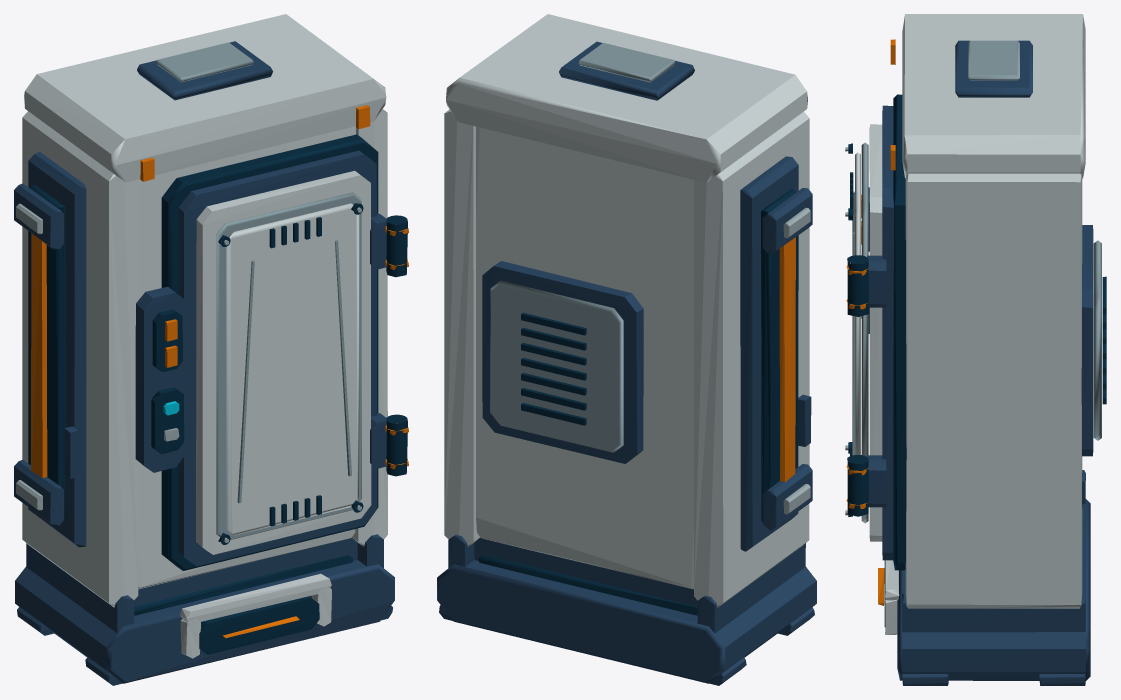
Rendered from vestiaire.glb.
3 renders of one model, left to right at view 1: azimuth 30°, elevation 25°; view 2: azimuth 150°, elevation 25°; view 3: azimuth 270°, elevation 25°, orthographic.
Visible parts, largest first — view 1: corps__gris_clair, corps__bleu_nuit, corps__bleu_nuit2, corps__cyan_fonce, corps__lum_orange, corps__gris_clair2; view 2: corps__gris_clair, corps__bleu_nuit, corps__cyan_fonce, corps__bleu_nuit2, corps__lum_orange, corps__gris_clair2; view 3: corps__gris_clair, corps__bleu_nuit, corps__bleu_nuit2, corps__cyan_fonce, corps__lum_orange.
Boxes of the visible parts, <box> form: corps__gris_clair: <box>22,14,387,658</box>; corps__bleu_nuit: <box>14,41,394,685</box>; corps__bleu_nuit2: <box>28,134,407,654</box>; corps__cyan_fonce: <box>156,42,361,539</box>; corps__lum_orange: <box>31,105,408,637</box>; corps__gris_clair2: <box>16,203,361,542</box>; corps__gris_clair: <box>444,14,809,607</box>; corps__bleu_nuit: <box>437,41,816,685</box>; corps__cyan_fonce: <box>490,43,675,452</box>; corps__bleu_nuit2: <box>479,189,798,615</box>; corps__lum_orange: <box>779,237,795,481</box>; corps__gris_clair2: <box>783,208,810,514</box>; corps__gris_clair: <box>855,14,1085,634</box>; corps__bleu_nuit: <box>867,40,1093,685</box>; corps__bleu_nuit2: <box>847,94,1106,626</box>; corps__cyan_fonce: <box>852,40,1101,523</box>; corps__lum_orange: <box>846,39,895,605</box>.
Bounding box in the file's own units: 1.14 × 1.9 × 0.8014.
